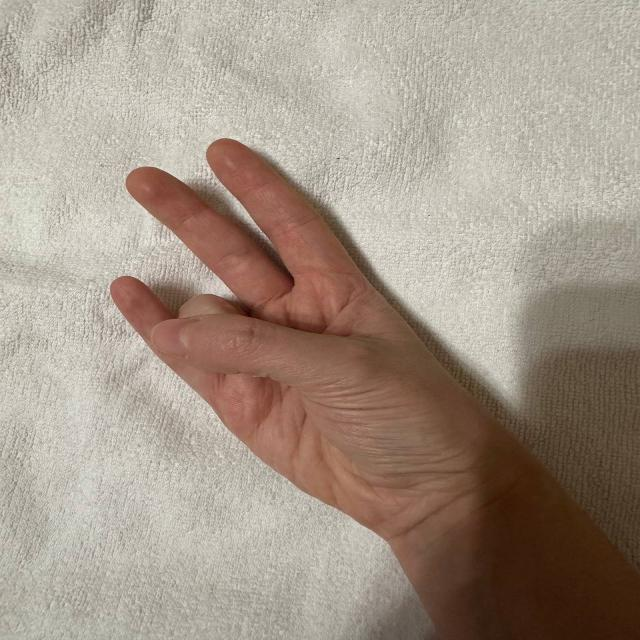n: (67, 124, 491, 498)
